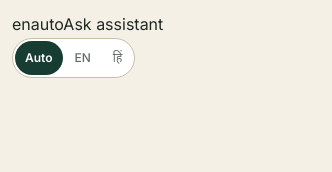
it: LanguageProvider › switches the chrome to Hindi and updates the document language
The image size is (332, 172).
Click the button "हिं". click: (118,58)
box: [103,41,132,75]
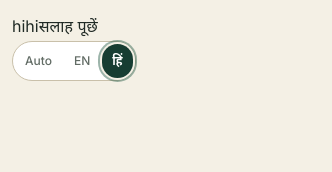
Check: the text with test id "lang" reads "hi", box [12,16,25,36]
Check: the text with test id "nav-label" reads "सलाह पूछें", box [39,16,98,36]
